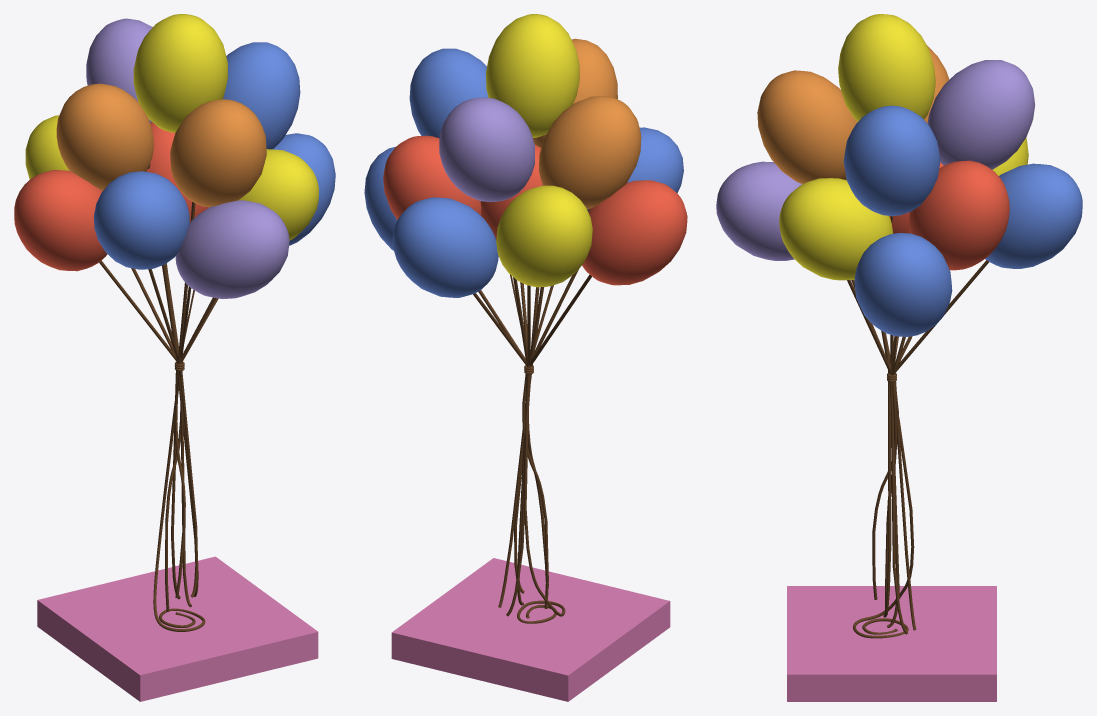
Rendered from ballon.fbx.
3 renders of one model, left to right at view 1: azimuth 30°, elevation 25°; view 2: azimuth 150°, elevation 25°; view 3: azimuth 270°, elevation 25°, orthographic. The views are drawn at different scales.
Parts seen in each view (by area): view 1: balloon; view 2: balloon; view 3: balloon.
Part boxes in pixels (x1,y1,x2,y2): balloon: [14, 14, 335, 701]; balloon: [364, 14, 687, 701]; balloon: [716, 14, 1082, 701].
Bounding box in the file's own units: 613 × 1178 × 611.
